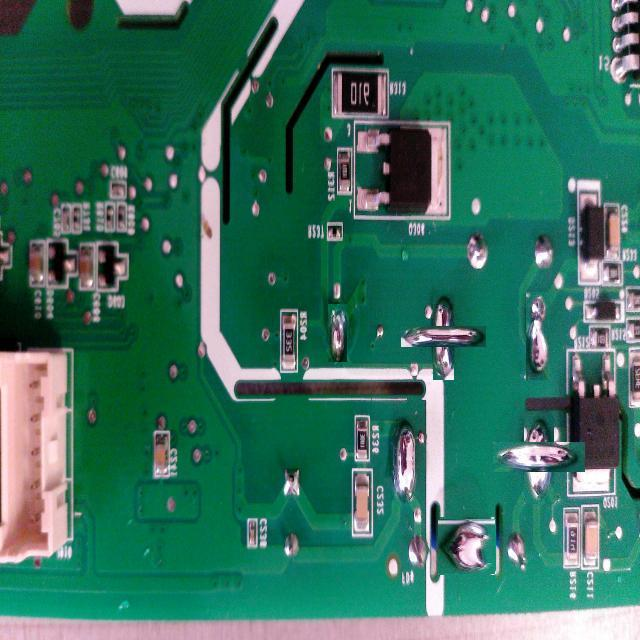Short_circuit: (508, 427, 570, 488), (439, 518, 496, 575), (417, 310, 470, 364), (392, 412, 418, 508), (526, 292, 550, 380), (327, 303, 347, 362)
